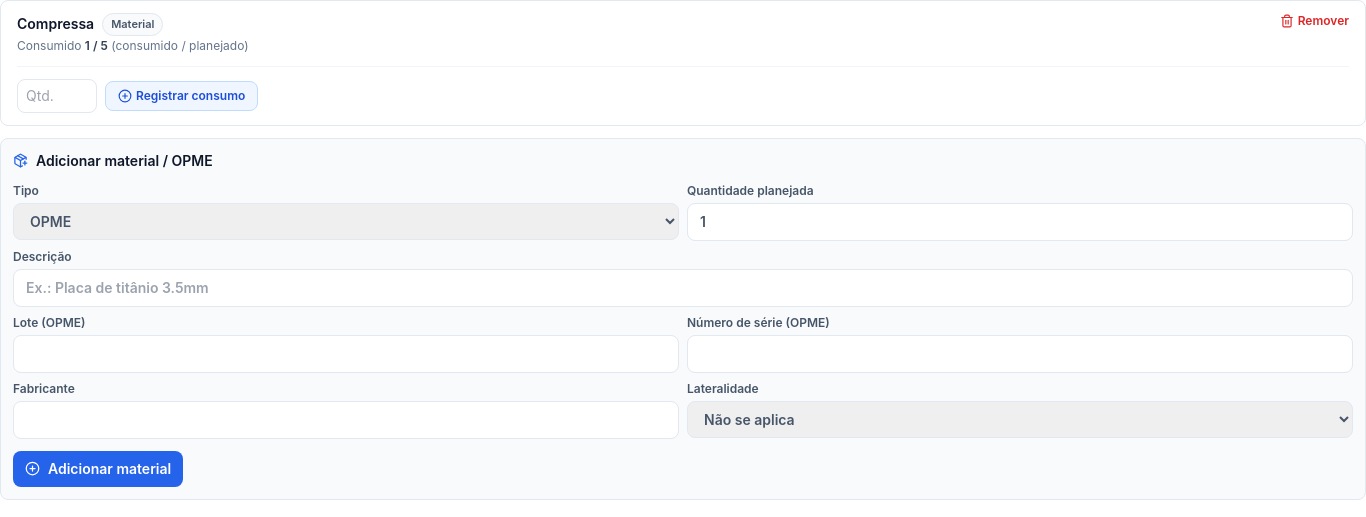
Test: SurgeryMaterialsPanel › surfaces an invalid consume quantity (400) as a friendly message
The width and height of the screenshot is (1366, 517).
Expected: the text "Compressa" is shown, [17,14,94,34]
Type "9" into the number field named "Consumo de Compressa". click: point(57, 96)
box: [17,78,97,112]
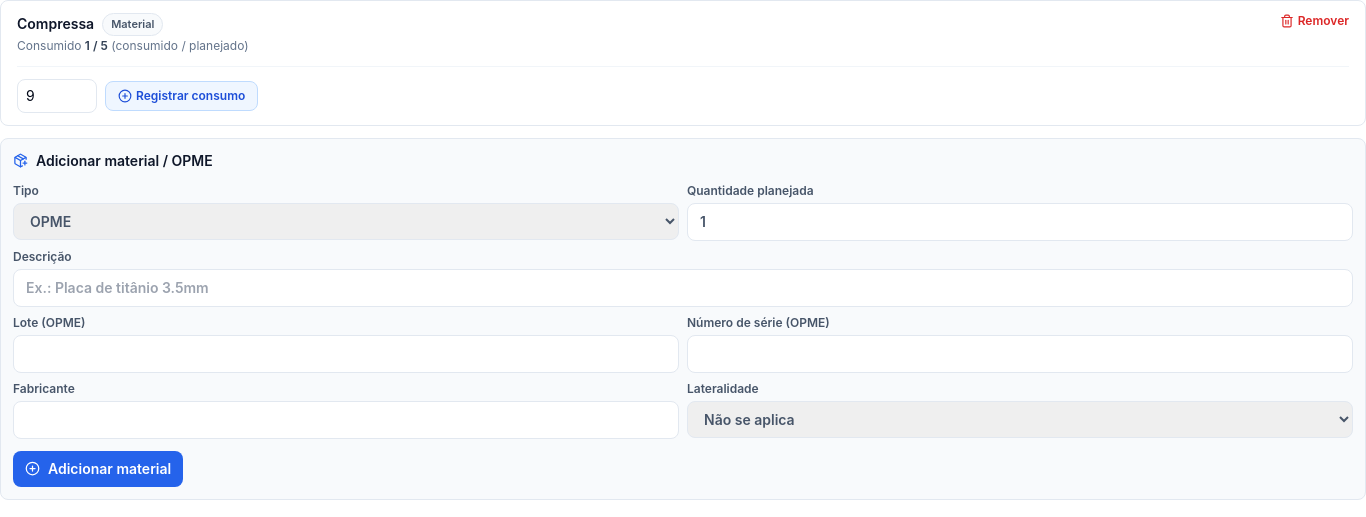
Click the button "Registrar consumo". click: point(182, 96)
box: [105,80,258,110]
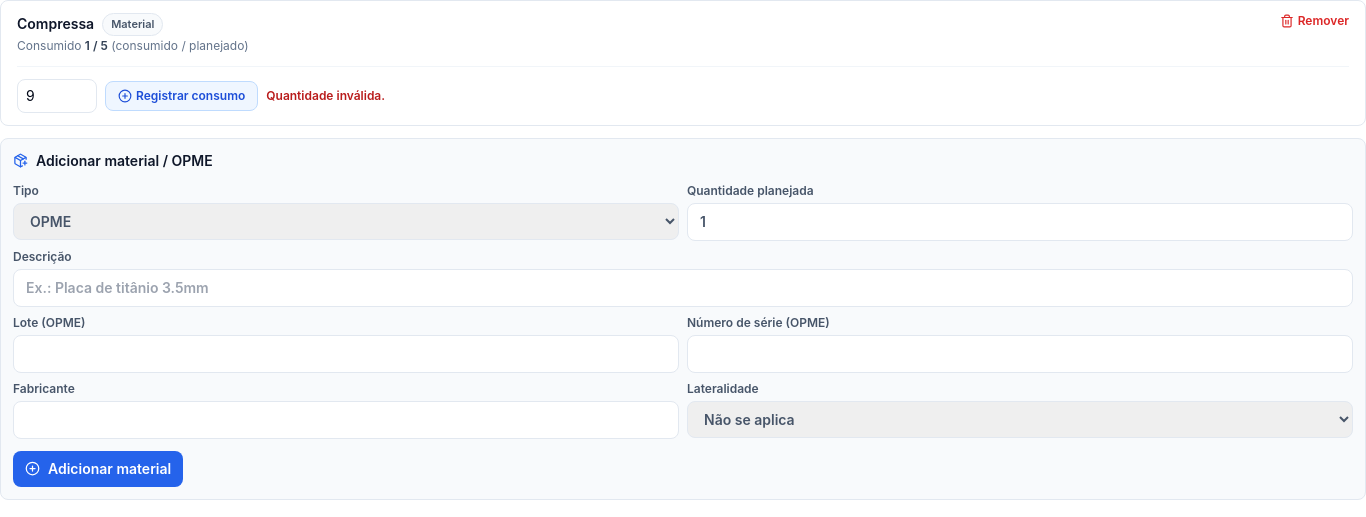
Now the text "Quantidade inválida." is shown, box [266,88,385,104]
